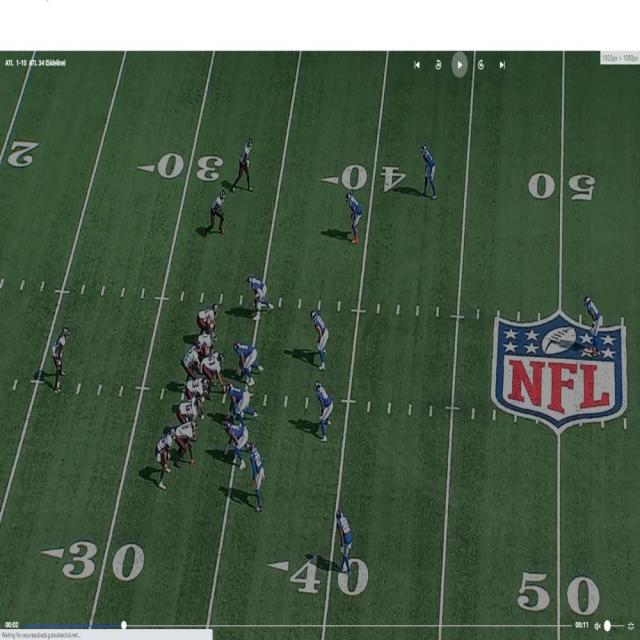center: (206, 352, 222, 392)
db: (336, 508, 356, 582), (584, 294, 602, 352), (346, 189, 363, 242), (423, 144, 437, 196)
lb: (309, 308, 328, 369), (249, 442, 266, 508), (316, 380, 334, 442), (246, 274, 270, 318)
qb: (185, 341, 203, 382)
skill: (153, 429, 171, 486), (175, 424, 199, 466), (238, 139, 254, 193), (204, 192, 224, 234), (53, 330, 69, 381)
